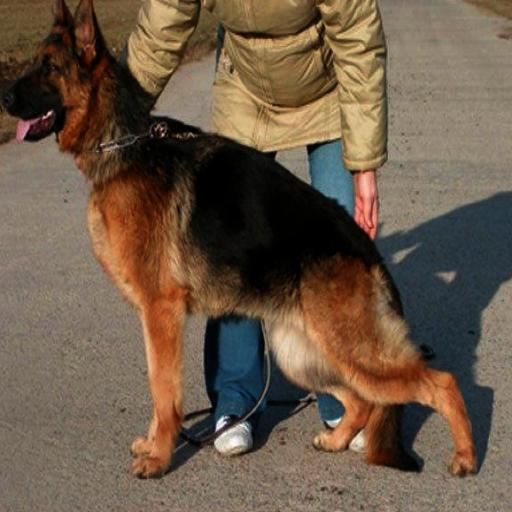dog_face: (5, 0, 102, 149)
